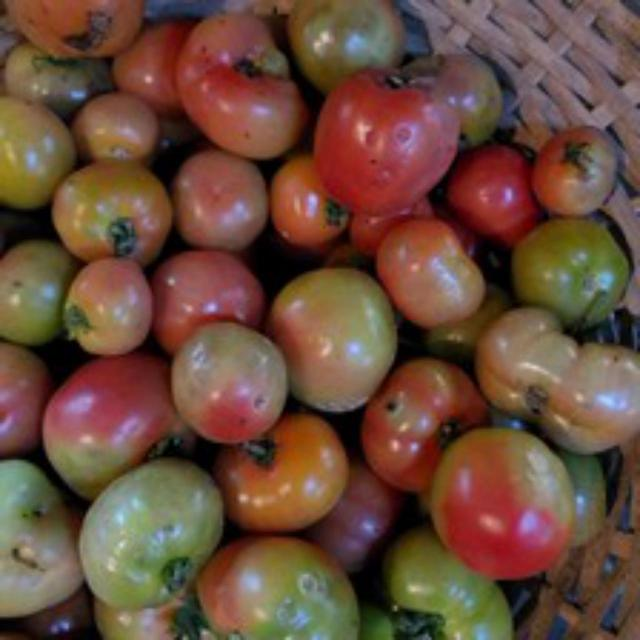tomato: (319, 83, 455, 211)
